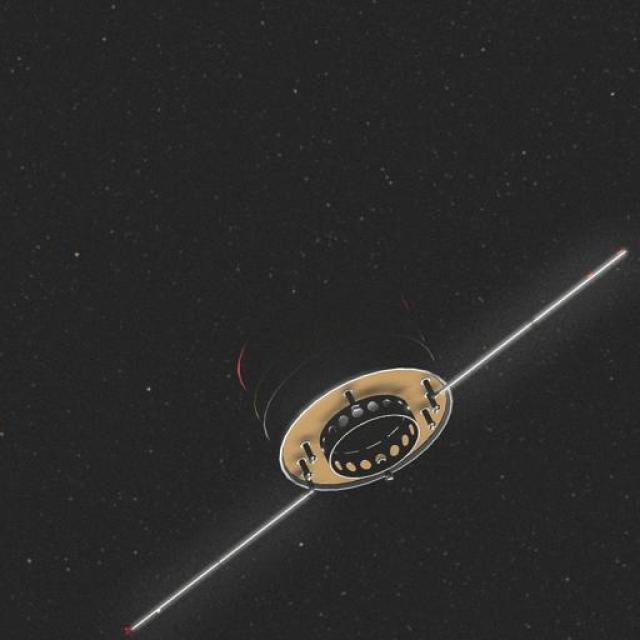double_start: (225, 290, 481, 504)
